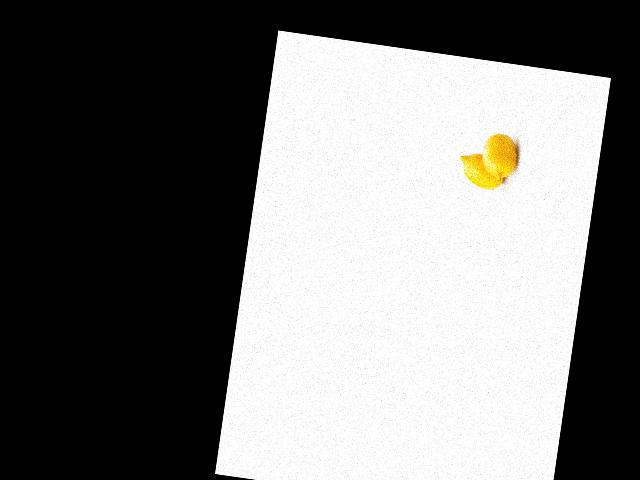lemon: (477, 128, 516, 186)
